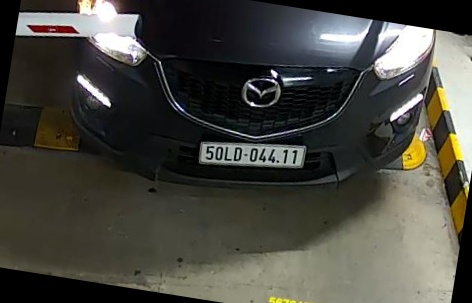plate: (196, 134, 312, 179)
